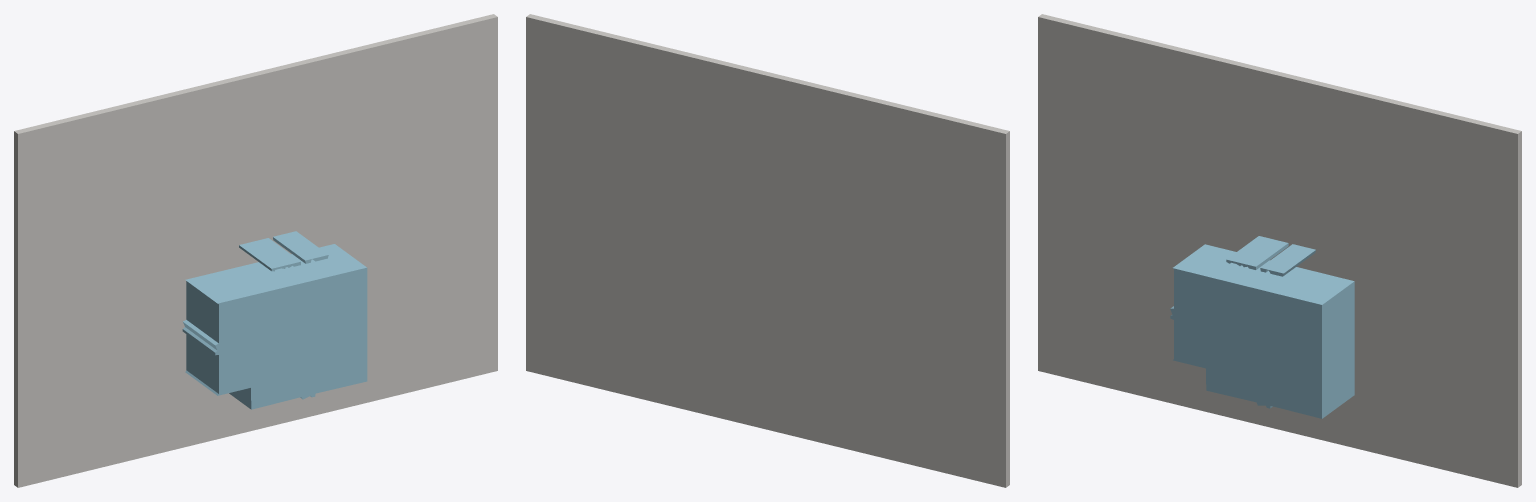
The picture shows the model from 3 angles, left to right: view 1: azimuth 30°, elevation 25°; view 2: azimuth 150°, elevation 25°; view 3: azimuth 330°, elevation 25°; orthographic projection.
Parts seen in each view (by area): view 1: world; view 2: world; view 3: world.
Part boxes in pixels (left/top/right/bottom): world: left=14, top=14, right=497, bottom=487; world: left=526, top=14, right=1009, bottom=487; world: left=1038, top=14, right=1521, bottom=487.
Bounding box in the file's own units: 10.23 × 7.21 × 1.35.
